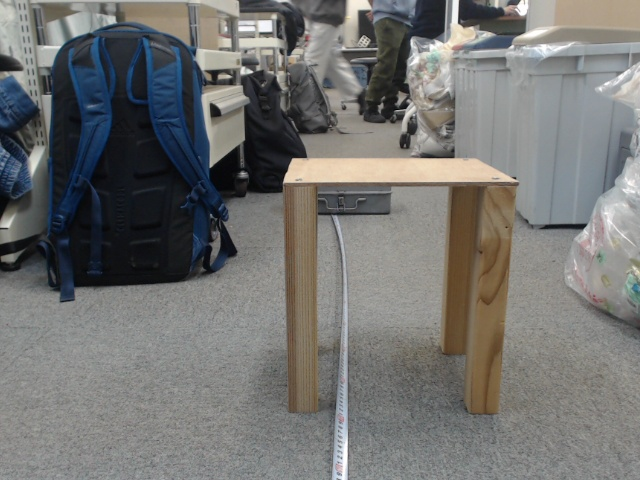desk: (281, 130, 513, 409)
